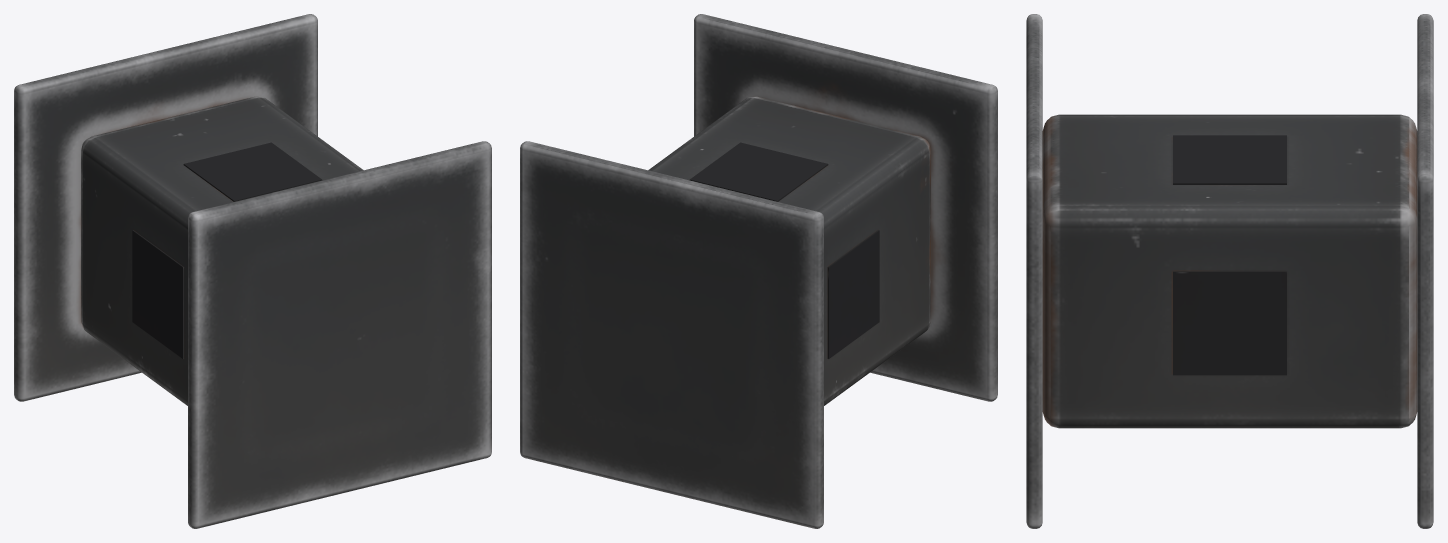
Rendered from SM_PartBeam1.glb.
3 views of the same model, side by side, from view 1: azimuth 30°, elevation 25°; view 2: azimuth 150°, elevation 25°; view 3: azimuth 270°, elevation 25° (orthographic). The views are drawn at different scales.
Visible parts, largest first — view 1: SM_PartBeam1; view 2: SM_PartBeam1; view 3: SM_PartBeam1.
Boxes of the visible parts, bbox=[...] form: SM_PartBeam1: bbox=[14, 14, 491, 528]; SM_PartBeam1: bbox=[520, 14, 997, 528]; SM_PartBeam1: bbox=[1026, 14, 1433, 528].
Size of the model in its own units: 0.48 by 0.48 by 0.5.
Materials: 2 (2 with a texture image).
